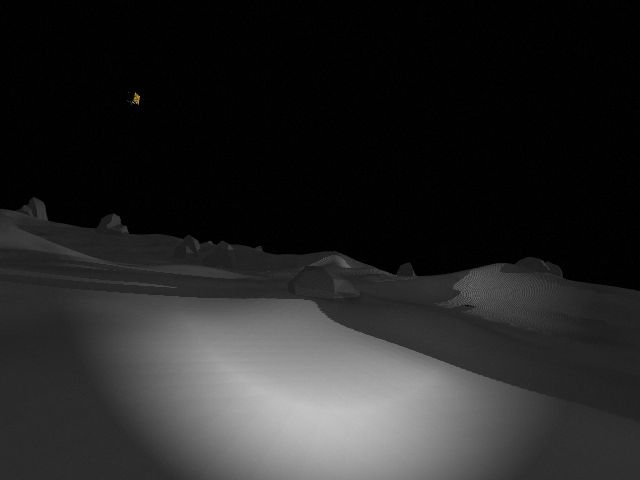cubesat: (123, 90, 142, 107)
